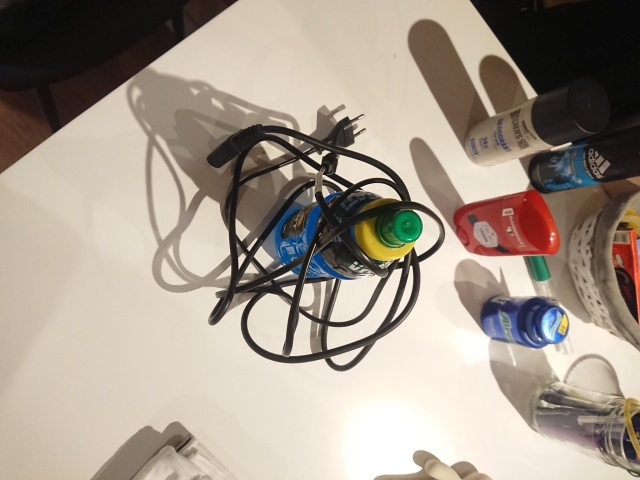Vindi Iso Sport Forest Strawberries 500mL: (274, 188, 424, 282)
